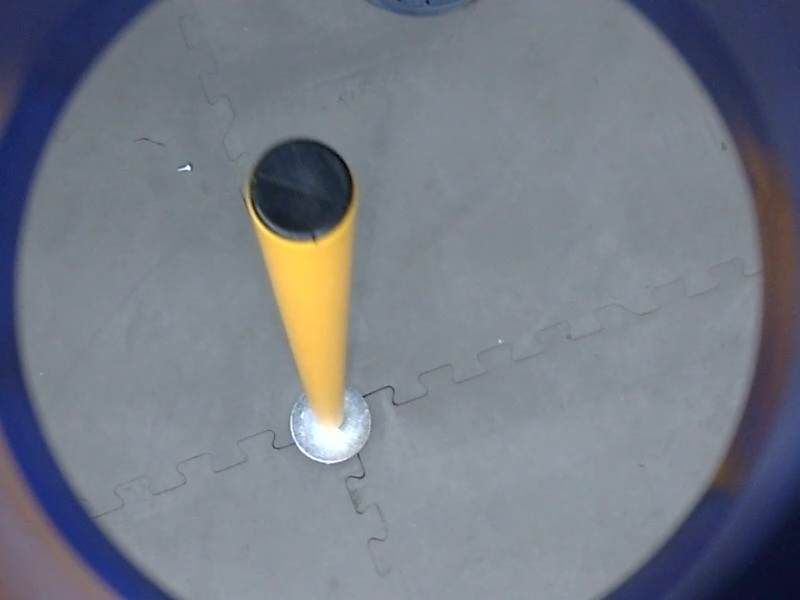tip: (236, 130, 362, 250)
